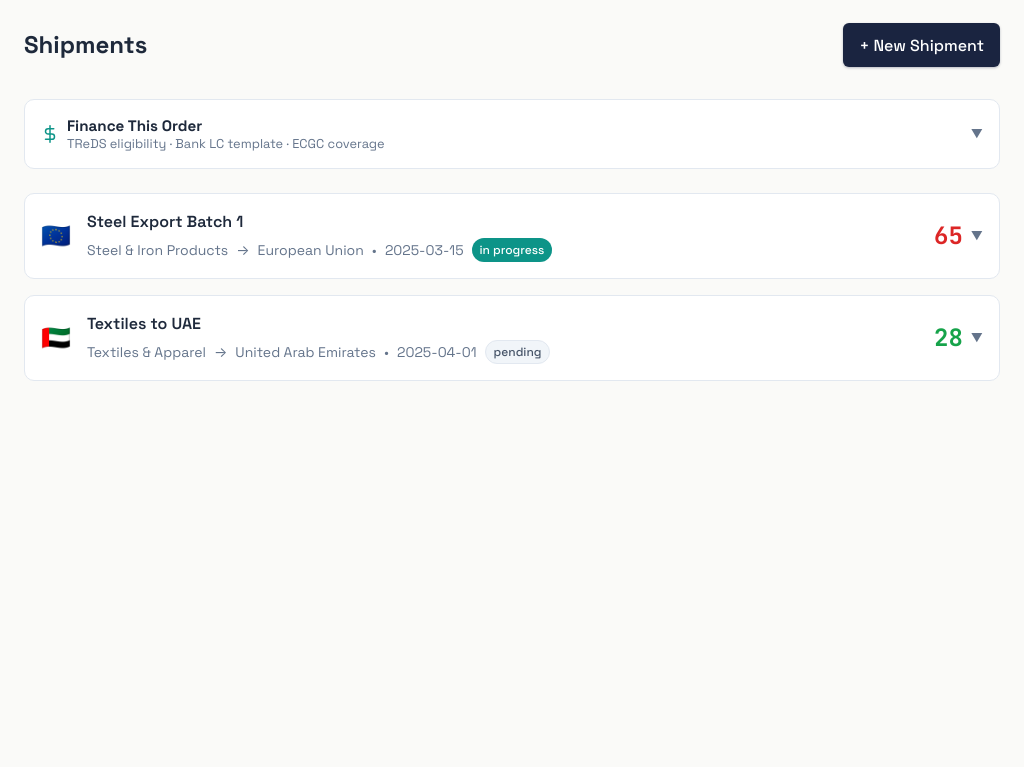
it: Shipments › Form Validation › disables create button when form incomplete
The image size is (1024, 767).
Click the button "+ New Shipment".
click(922, 45)  # box [843, 23, 1000, 67]
(page scrolled)
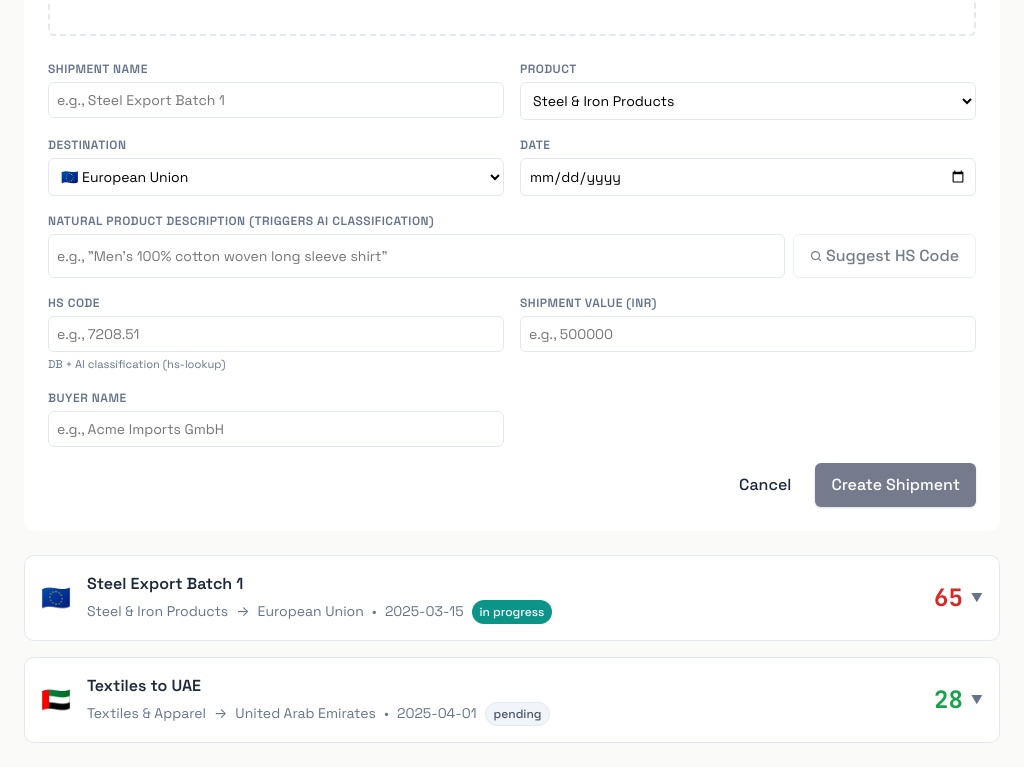
Check: the button "Create Shipment" is disabled, box [815, 463, 976, 507]
